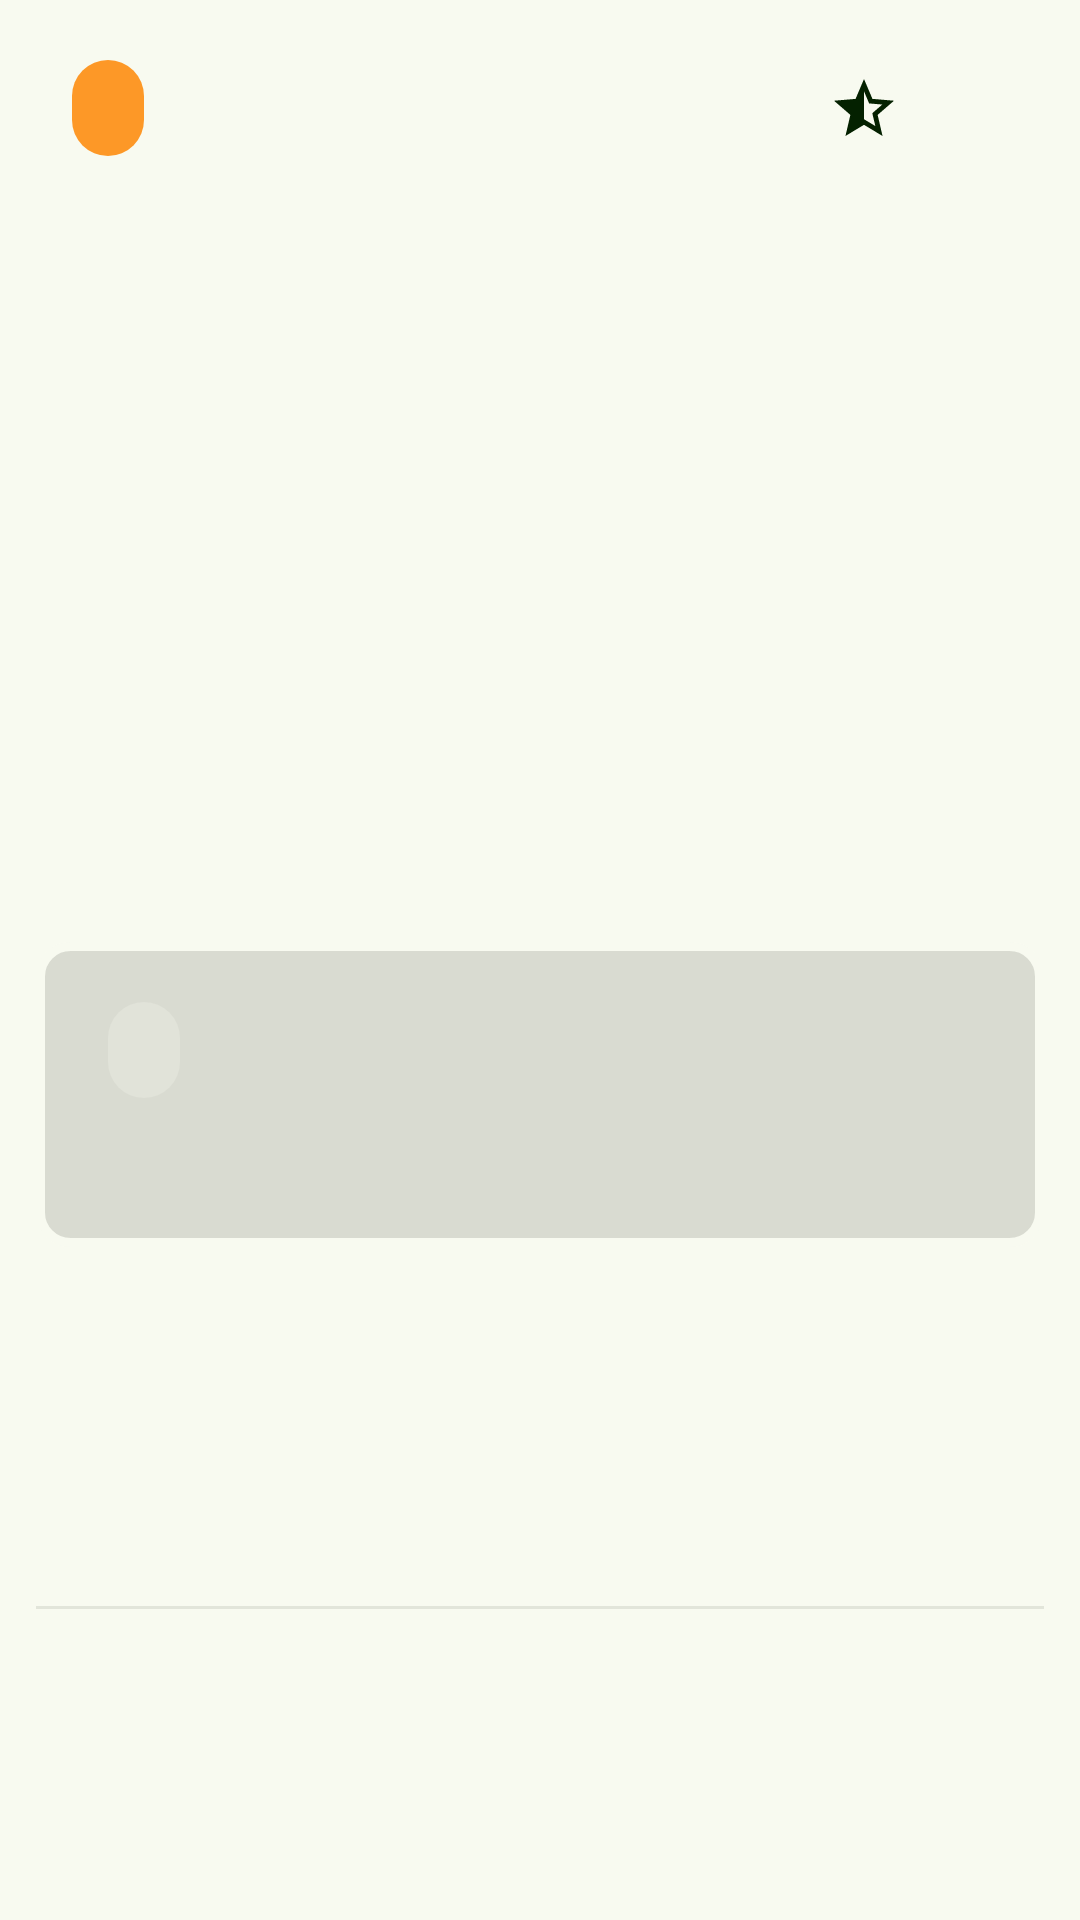

Icons on this 1080 x 1920 Android screen, each with the point to tap as [x,y]:
rating recommendation: [864,107]
